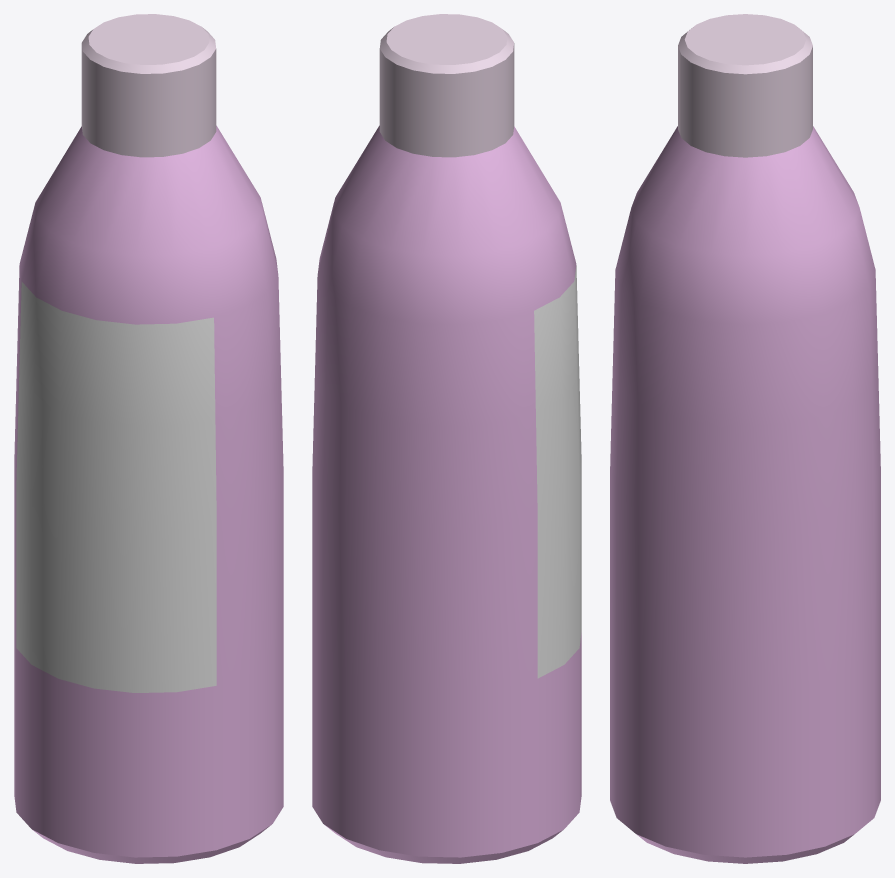
File: Shampoo.fbx
3 renders of one model, left to right at view 1: azimuth 30°, elevation 25°; view 2: azimuth 150°, elevation 25°; view 3: azimuth 270°, elevation 25°, orthographic.
Parts seen in each view (by area): view 1: Shampoo; view 2: Shampoo; view 3: Shampoo.
Boxes of the visible parts, bbox=[...] form: Shampoo: bbox=[14, 14, 283, 863]; Shampoo: bbox=[312, 14, 581, 863]; Shampoo: bbox=[610, 14, 880, 863].
Bounding box in the file's own units: 6.91 × 21.76 × 6.91.
